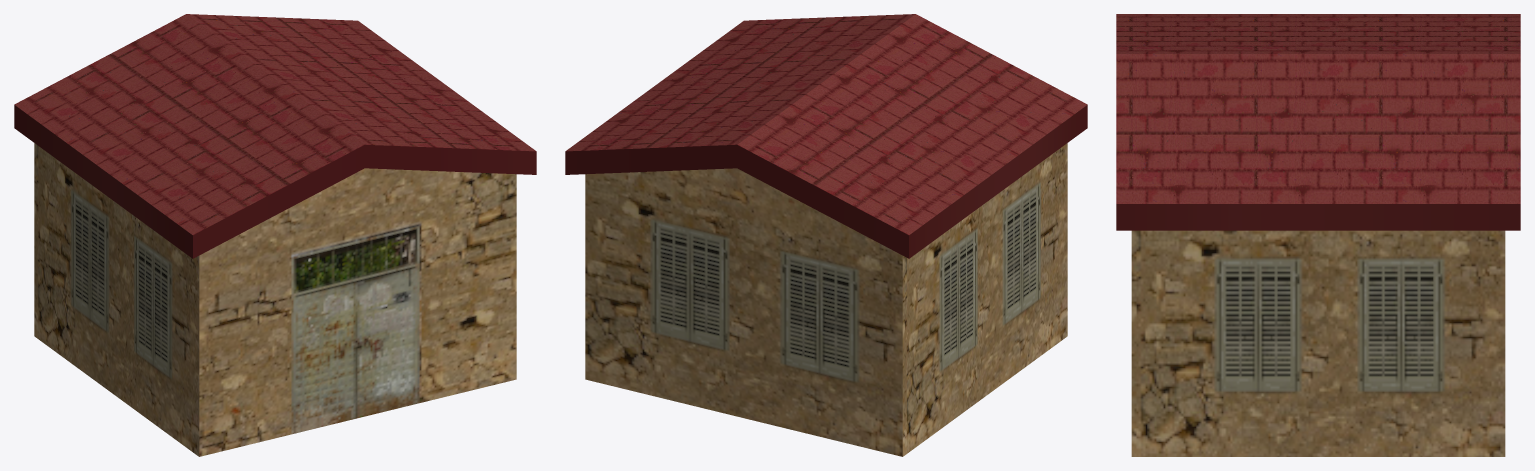
The model's file is building2.fbx.
3 renders of one model, left to right at view 1: azimuth 30°, elevation 25°; view 2: azimuth 150°, elevation 25°; view 3: azimuth 270°, elevation 25°, orthographic. The views are drawn at different scales.
Visible parts, largest first — view 1: smallHouse; view 2: smallHouse; view 3: smallHouse.
Boxes of the visible parts, box(x1,y1,x2,y2) form: smallHouse: box(14, 14, 536, 456); smallHouse: box(565, 14, 1087, 456); smallHouse: box(1116, 14, 1520, 456).
Size of the model in its own units: 1474 by 1141 by 1326.
